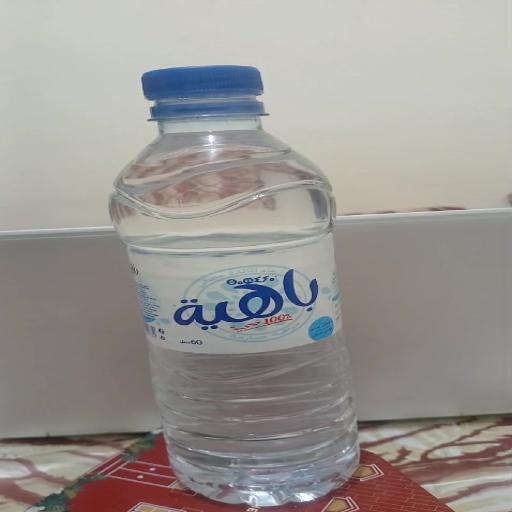bouteille non conformite: (102, 50, 398, 510), (120, 66, 322, 140)
